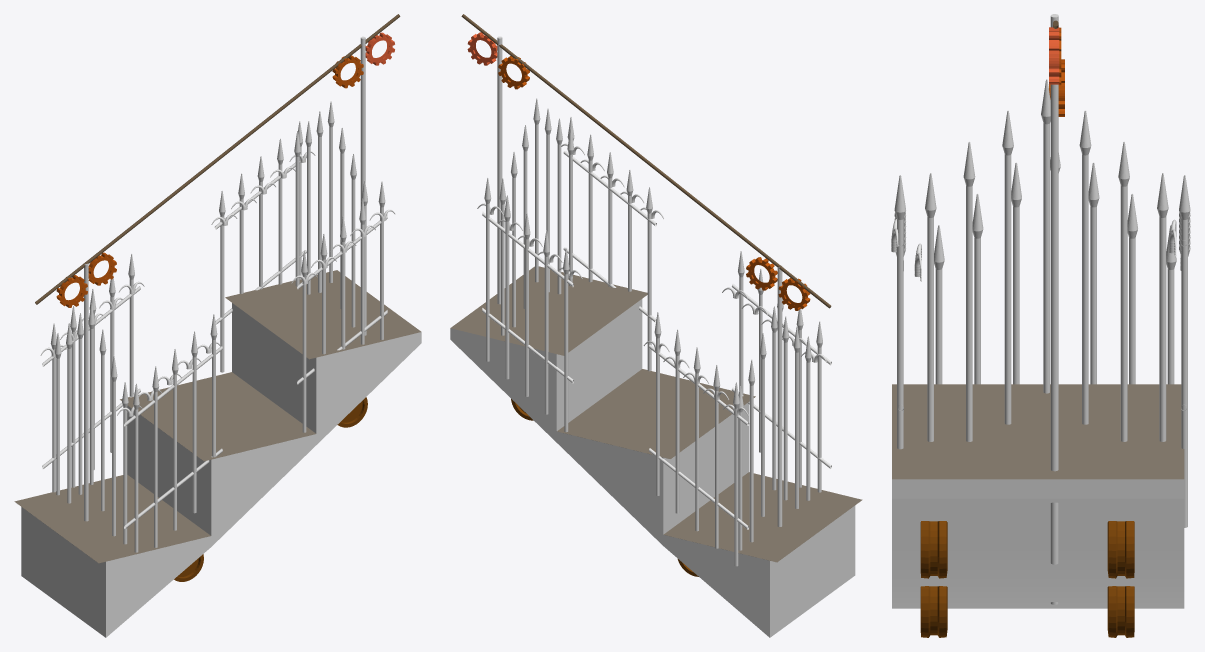
The model's file is Fence8.fbx.
The picture shows the model from 3 angles, left to right: view 1: azimuth 30°, elevation 25°; view 2: azimuth 150°, elevation 25°; view 3: azimuth 270°, elevation 25°; orthographic projection. The views are drawn at different scales.
Parts seen in each view (by area): view 1: Stair, Cylinder.015, Cylinder.001, Cylinder, Cylinder.016, Cylinder.003, Cylinder.012, Cylinder.018, Cylinder.019, Cylinder.017; view 2: Stair, Cylinder.001, Cylinder.015, Cylinder, Cylinder.016, Cylinder.003, Cylinder.012, Cylinder.019, Cylinder.018, Gear.002; view 3: Stair, Cylinder.016, Cylinder, Cylinder.017, Cylinder.001, Cylinder.003, Gear.
Part boxes in pixels (left/top/right/bottom): Stair: left=14, top=270, right=421, bottom=637; Cylinder.015: left=50, top=253, right=217, bottom=552; Cylinder.001: left=219, top=121, right=385, bottom=432; Cylinder: left=54, top=303, right=128, bottom=544; Cylinder.016: left=294, top=101, right=367, bottom=335; Cylinder.003: left=84, top=36, right=365, bottom=521; Cylinder.012: left=35, top=14, right=400, bottom=304; Cylinder.018: left=42, top=286, right=222, bottom=528; Cylinder.019: left=214, top=156, right=387, bottom=384; Cylinder.017: left=174, top=397, right=367, bottom=581; Stair: left=450, top=266, right=862, bottom=637; Cylinder.001: left=484, top=117, right=652, bottom=432; Cylinder.015: left=654, top=251, right=822, bottom=566; Cylinder: left=738, top=306, right=811, bottom=550; Cylinder.016: left=499, top=98, right=574, bottom=335; Cylinder.003: left=497, top=36, right=782, bottom=526; Cylinder.012: left=461, top=14, right=831, bottom=308; Cylinder.019: left=482, top=151, right=656, bottom=383; Cylinder.018: left=649, top=284, right=831, bottom=529; Gear.002: left=746, top=257, right=777, bottom=290; Stair: left=892, top=384, right=1184, bottom=608; Cylinder.016: left=925, top=79, right=1168, bottom=441; Cylinder: left=934, top=153, right=1176, bottom=384; Cylinder.017: left=920, top=521, right=1134, bottom=637; Cylinder.001: left=894, top=175, right=1190, bottom=511; Cylinder.003: left=1050, top=14, right=1058, bottom=604; Gear: left=1049, top=27, right=1059, bottom=84.
Size of the model in its own units: 715 by 948 by 294.
